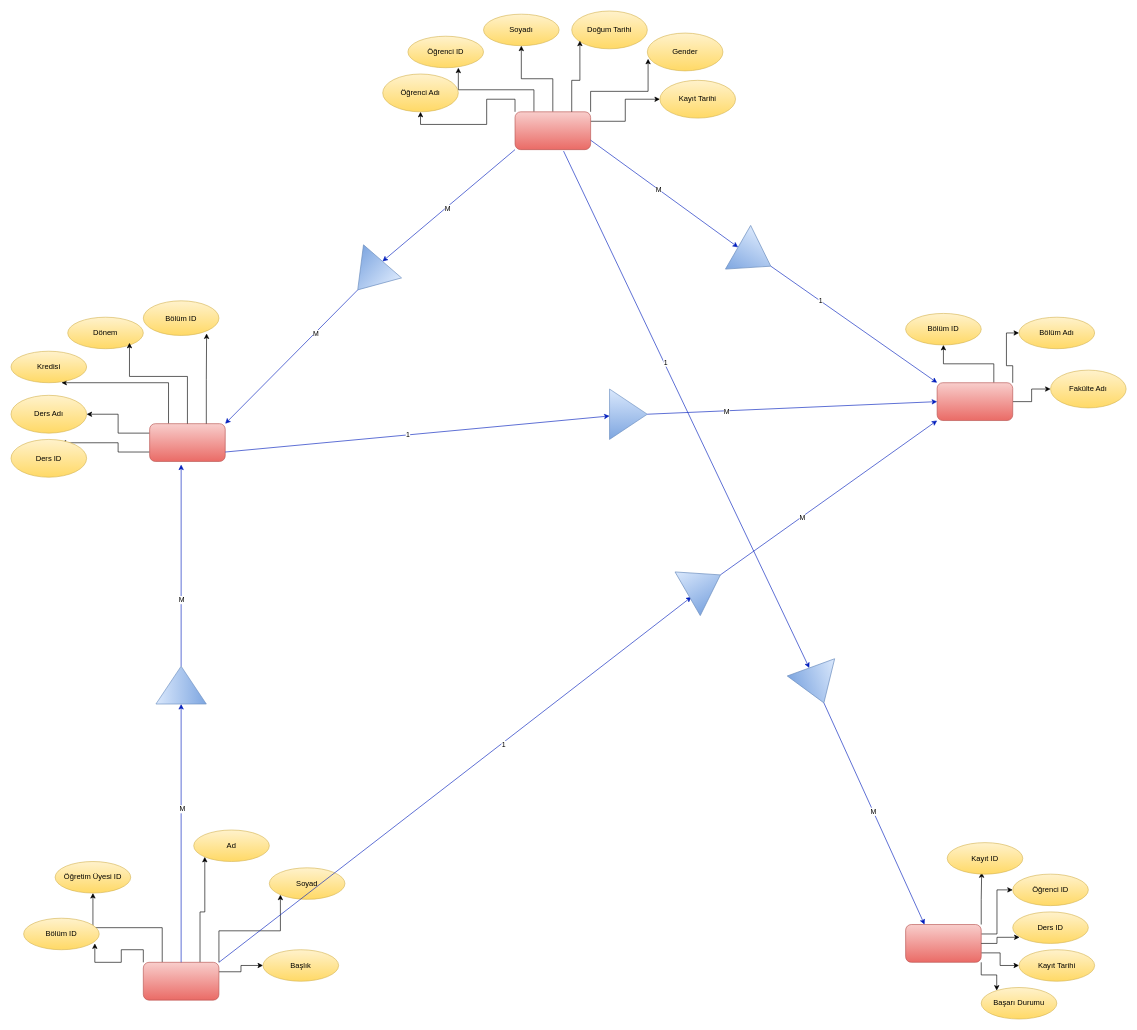
Image size: 1137x1030. Some labels were removed from this diagram. Here are the shapes that lost their labels. From the top down, the centre of each, then its label:
the point at 552,130: Öğrenciler
the point at 974,401: Bölümler
the point at 187,442: Dersler
the point at 943,943: Kayıtlar
the point at 181,981: Öğretim Üyeleri
